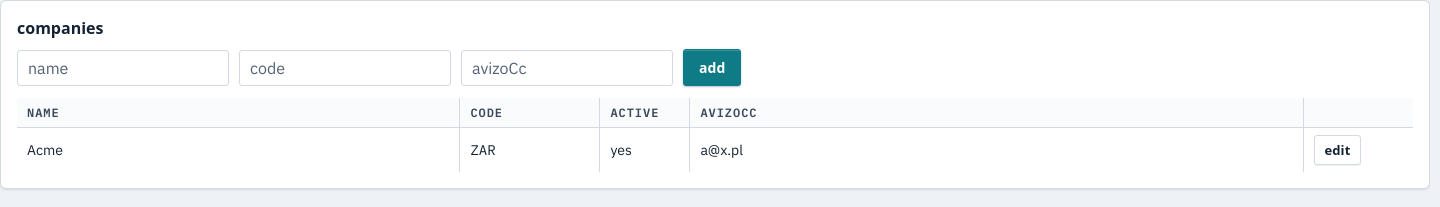
Test: formularze zakładek admina › Anuluj przy dodawaniu: pojawia się po wpisaniu, pyta i czyści pola
expect the text "Acme" is shown: met, box [17, 128, 460, 172]
expect the text "cancel" is not shown: met
Type "Nowa" into the field with placeholder "name" at [123, 68], box [17, 50, 229, 86]
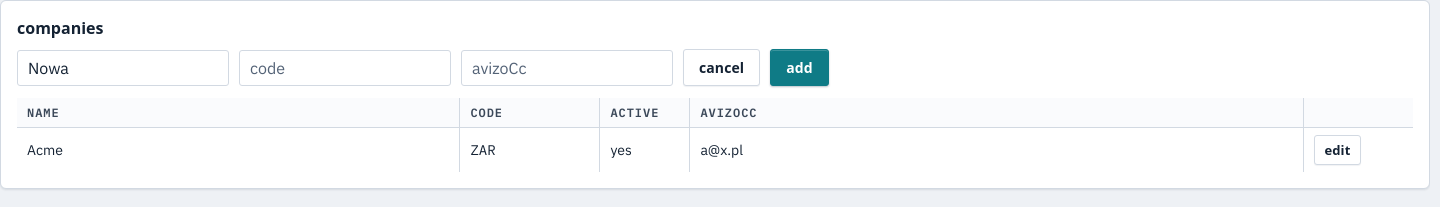
Click the button "cancel" at [722, 68], box [683, 49, 760, 86]
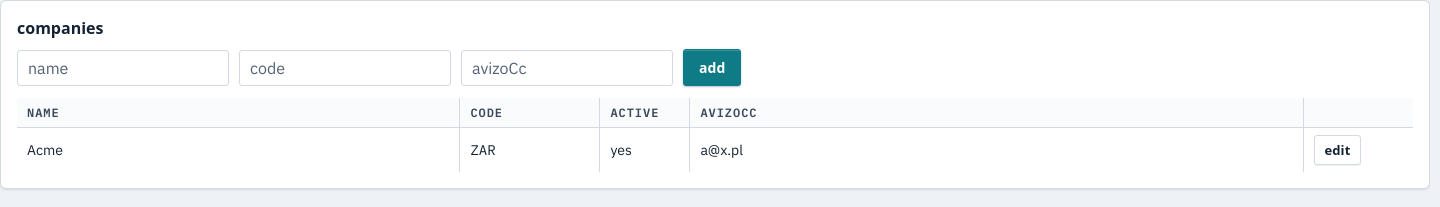
expect the field with placeholder "name" is empty: met, box [17, 50, 229, 86]
